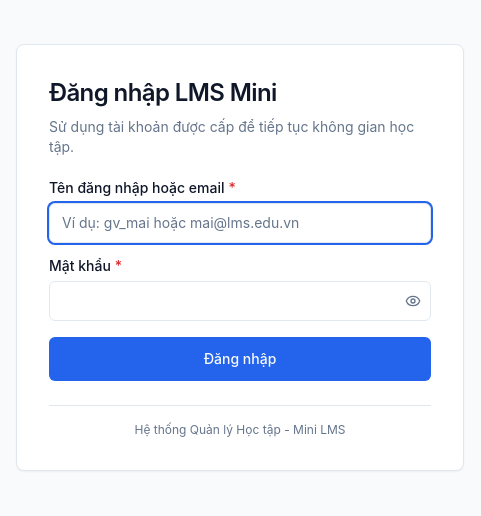
Test: M1 LoginPage & LoginForm (US-01) › validates required fields before submitting to login
Click the button "Đăng nhập". click: (240, 358)
box: [49,336,431,380]
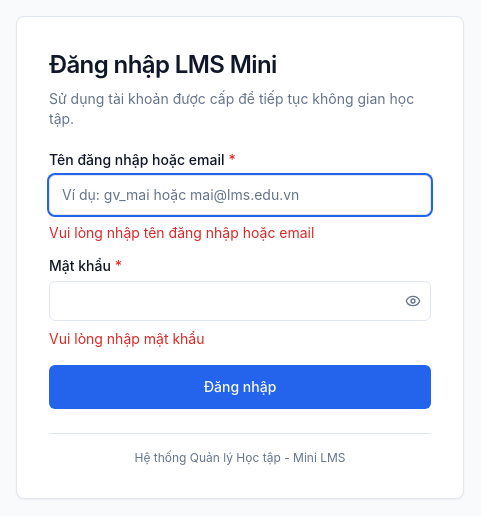
Now the text "Vui lòng nhập tên đăng nhập hoặc email" is shown, box [49,224,314,240]
Now the text "Vui lòng nhập mật khẩu" is shown, box [49,330,204,346]
